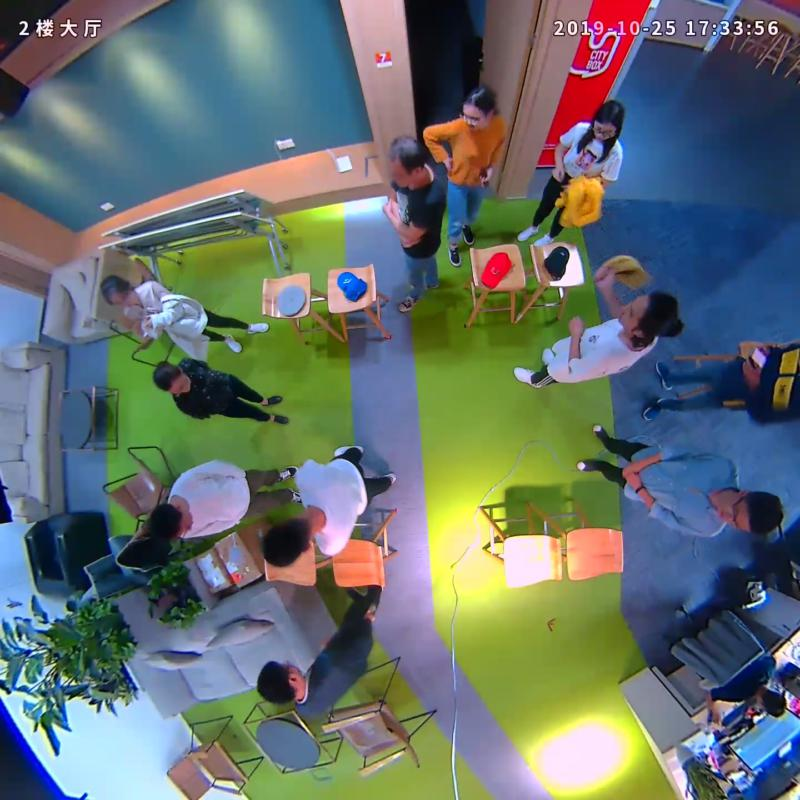head: (716, 489, 784, 536), (615, 289, 678, 339), (262, 513, 313, 568), (256, 659, 307, 703), (387, 136, 428, 188), (150, 504, 195, 543), (461, 85, 497, 130), (150, 362, 191, 394), (592, 100, 624, 140), (99, 275, 137, 307)
